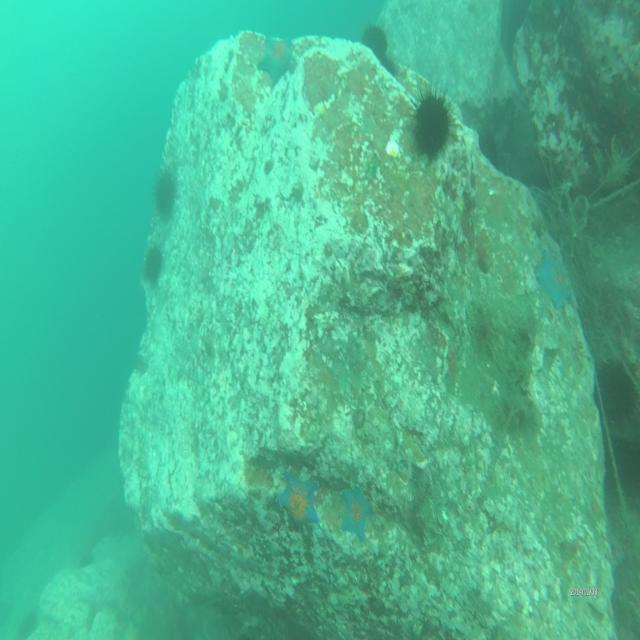echinus: (405, 70, 460, 166), (150, 161, 180, 226), (139, 233, 163, 290), (359, 18, 387, 66)
starfish: (278, 464, 321, 530), (534, 243, 574, 311), (338, 480, 374, 543)
